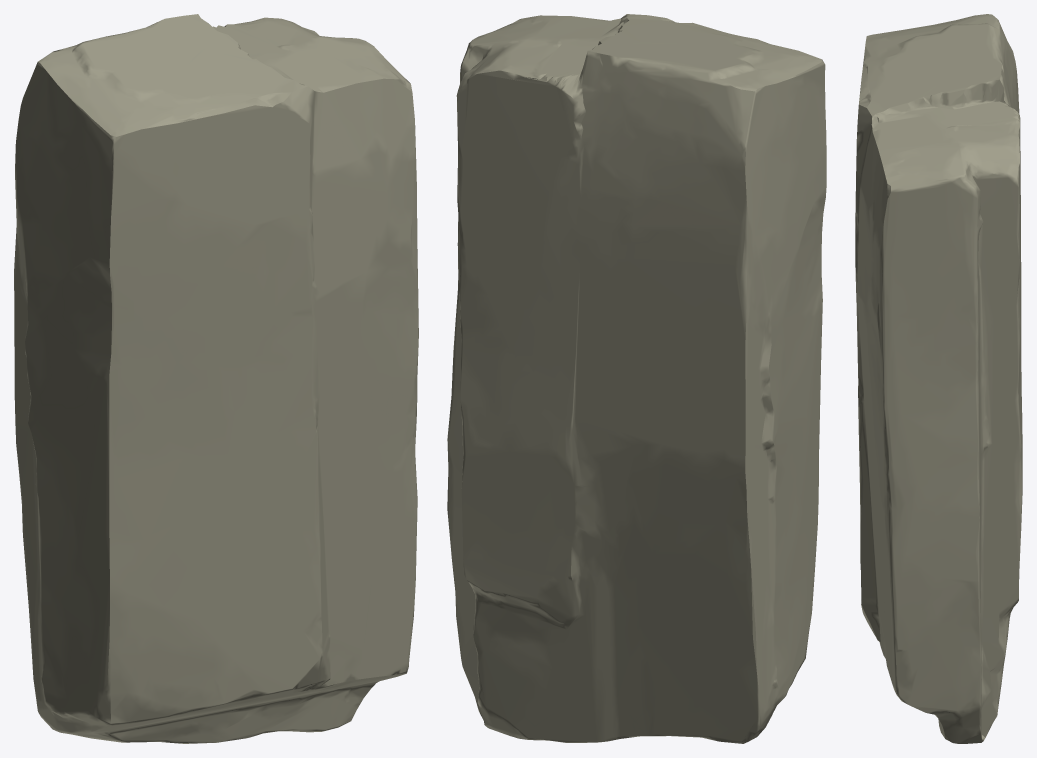
The picture shows the model from 3 angles, left to right: view 1: azimuth 30°, elevation 25°; view 2: azimuth 150°, elevation 25°; view 3: azimuth 270°, elevation 25°; orthographic projection. The views are drawn at different scales.
Parts seen in each view (by area): view 1: SM_BM_Cliff_01_LOD0; view 2: SM_BM_Cliff_01_LOD0; view 3: SM_BM_Cliff_01_LOD0.
Part boxes in pixels (left/top/right/bottom): SM_BM_Cliff_01_LOD0: left=14, top=14, right=418, bottom=743; SM_BM_Cliff_01_LOD0: left=447, top=14, right=826, bottom=743; SM_BM_Cliff_01_LOD0: left=855, top=14, right=1022, bottom=743.
Size of the model in its own units: 21.79 by 45.09 by 11.02.
